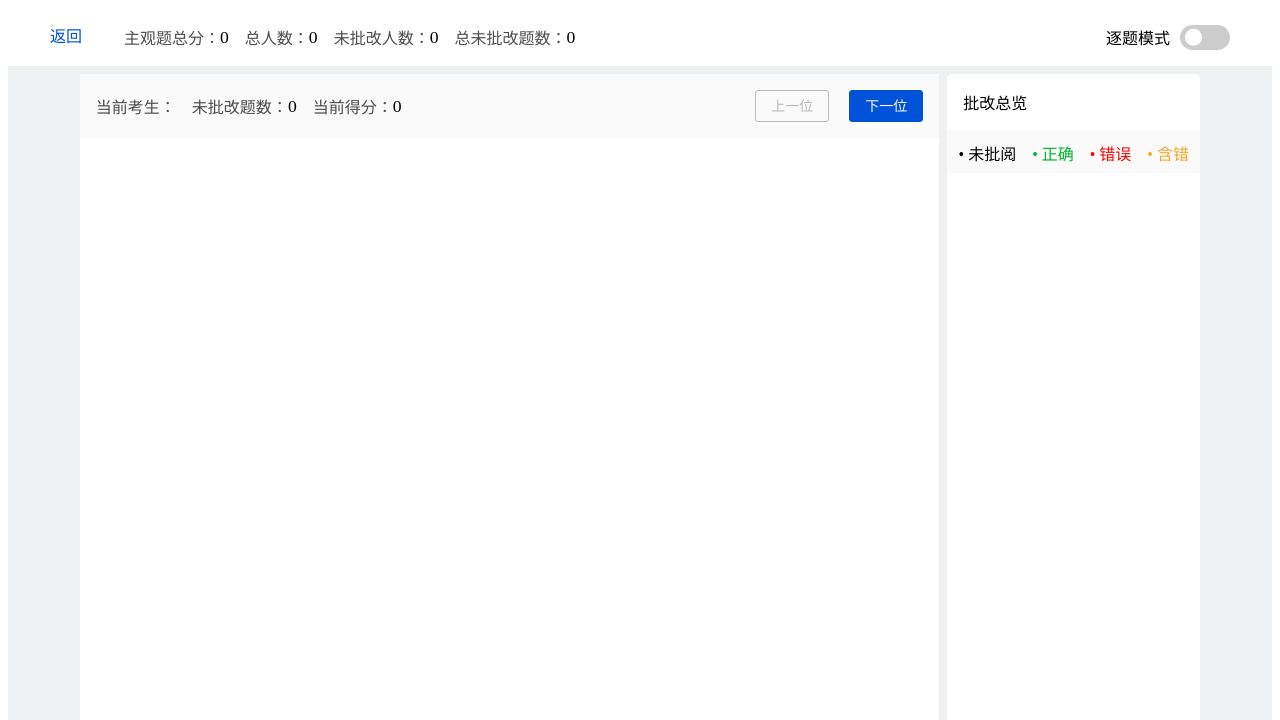
Test: 批改页面测试 › 批改模式切换功能测试 › 逐题模式下应正确切换题目
// 切换到逐题模式 
Click the 2nd button. click: (1205, 37)
box: [1180, 24, 1230, 50]
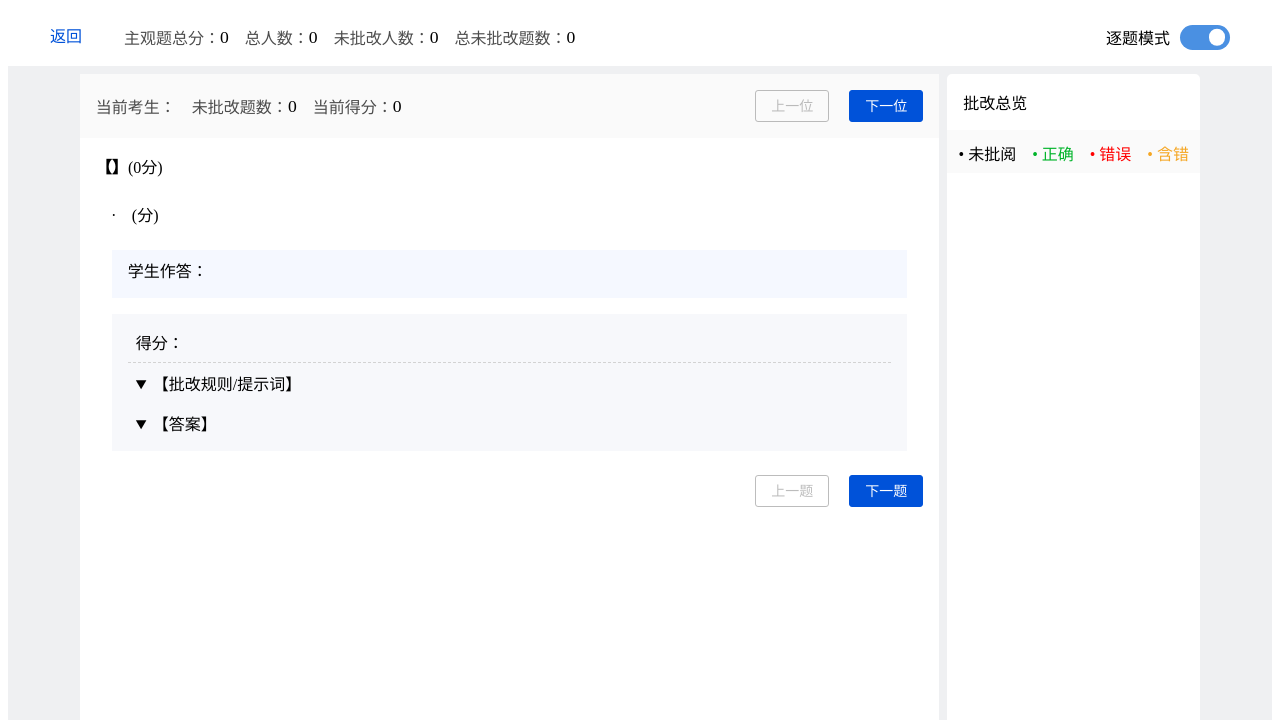
//  切换到下一题 
Click the button "下一题". click: (886, 491)
box: [849, 475, 923, 507]
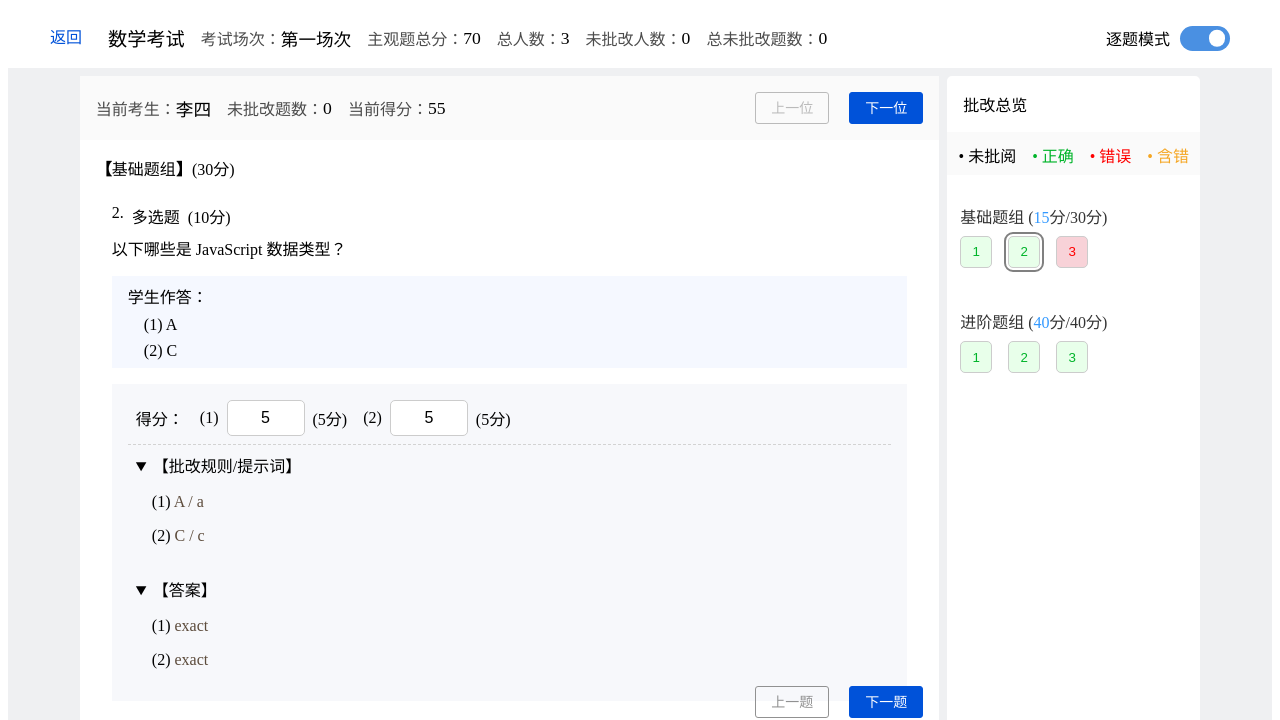
Check: the text "多选题" is shown, box [132, 204, 180, 228]
//  切换回上一题 
Click the button "上一题". click: (792, 702)
box: [755, 686, 829, 718]
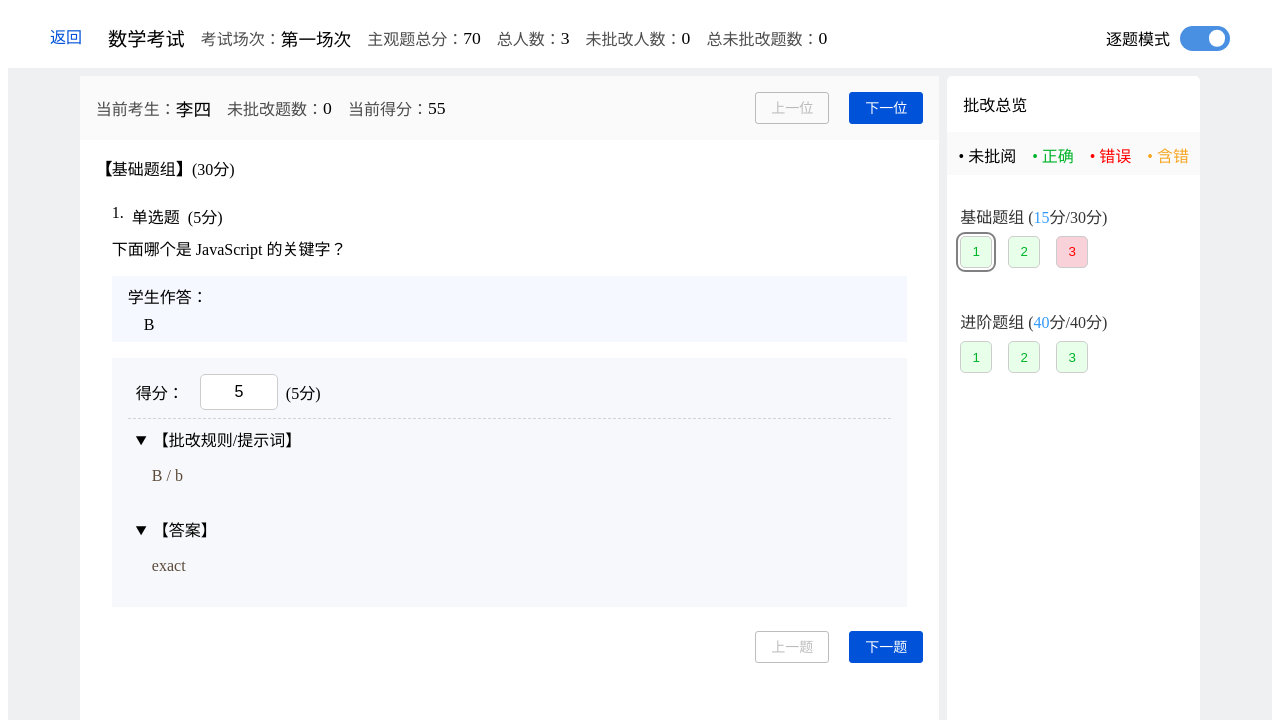
Check: the text "单选题" is shown, box [132, 204, 180, 228]
